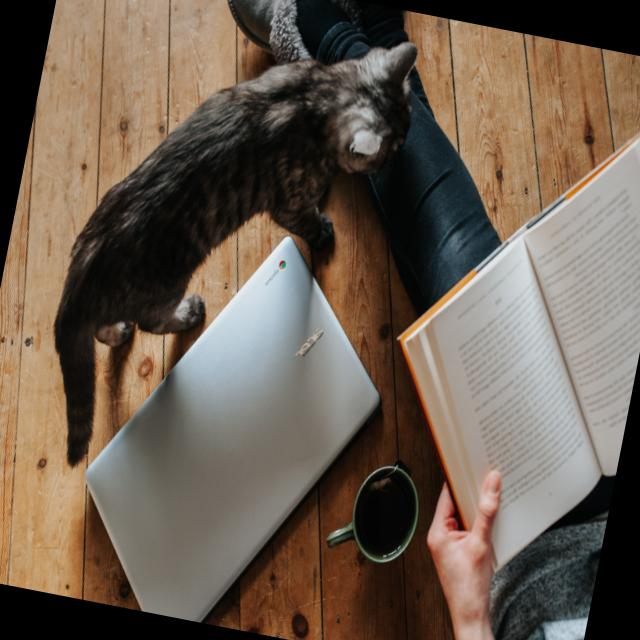animal: (5, 0, 434, 500)
